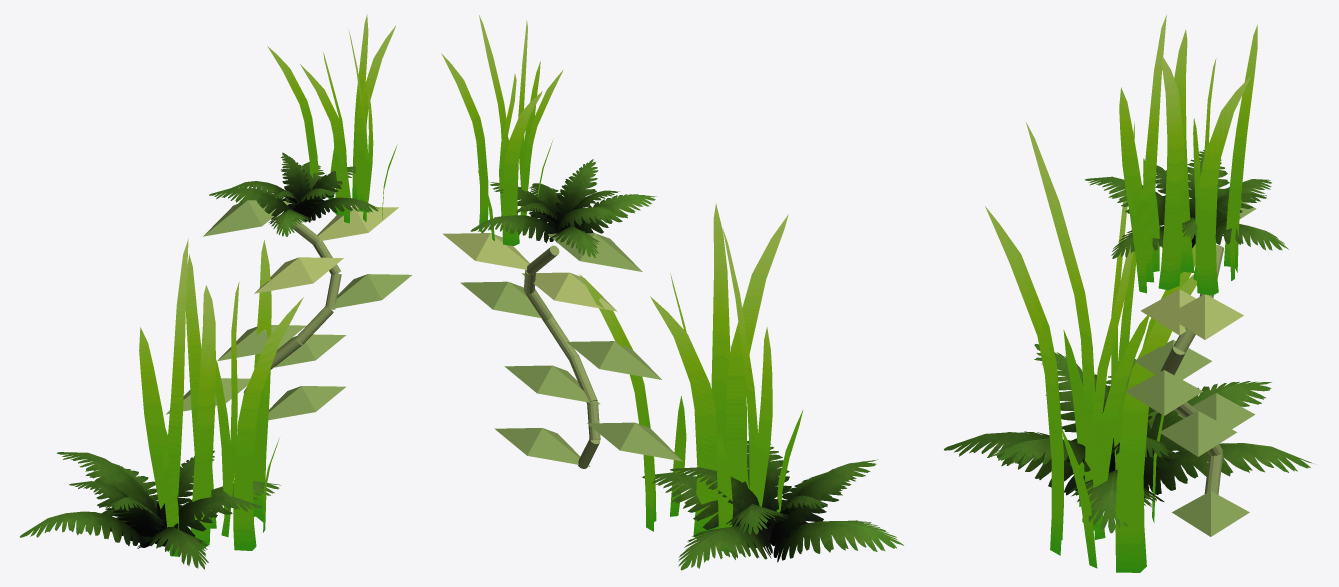
The model's file is Hollow_Stump_Greenery.glb.
3 renders of one model, left to right at view 1: azimuth 30°, elevation 25°; view 2: azimuth 150°, elevation 25°; view 3: azimuth 270°, elevation 25°, orthographic. The views are drawn at different scales.
Parts seen in each view (by area): view 1: Patch_000, Patch_001; view 2: Patch_000, Patch_001; view 3: Patch_000, Patch_001.
Part boxes in pixels (x1,y1,x2,y2): Patch_000: (20,238,303,569); Patch_001: (166,14,411,420); Patch_000: (579,203,903,570); Patch_001: (441,15,682,468); Patch_000: (944,122,1313,572); Patch_001: (1085,15,1288,536).
Bounding box in the file's own units: 1.09 × 1.17 × 0.652.
Materials: 5 (2 with a texture image).
